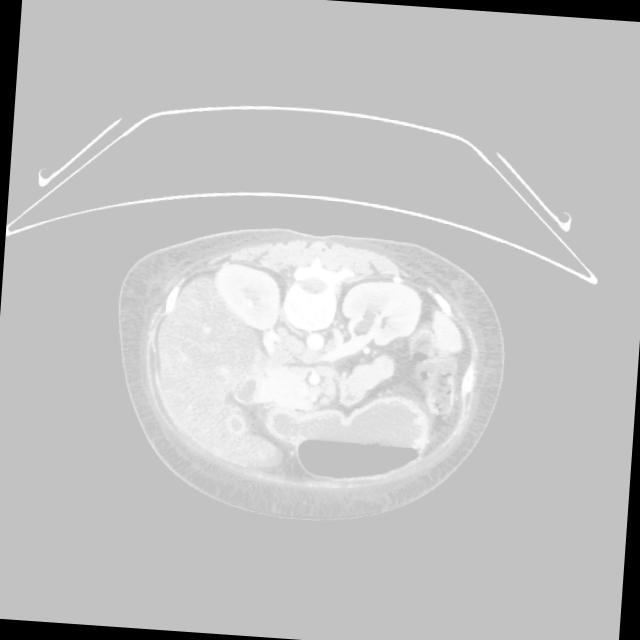NORMAL: (98, 223, 512, 529)
